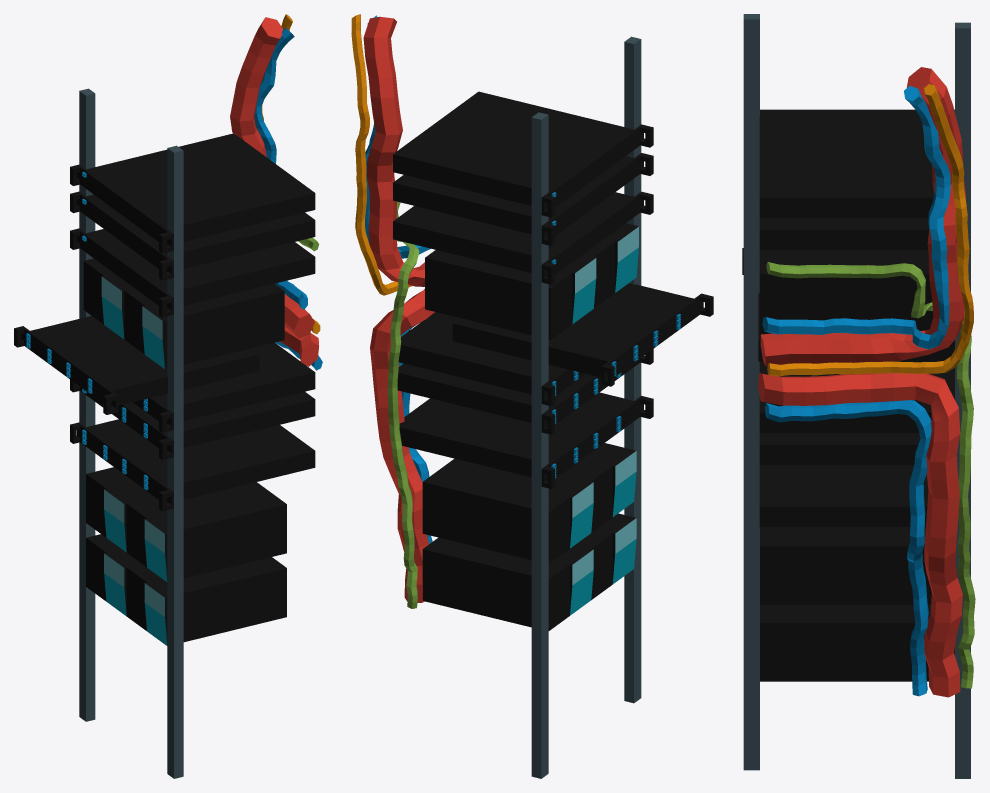
3 views of the same model, side by side, from view 1: azimuth 30°, elevation 25°; view 2: azimuth 150°, elevation 25°; view 3: azimuth 270°, elevation 25° (orthographic). The views are drawn at different scales.
Parts seen in each view (by area): view 1: node_MeshObject1979031040-PolyPaper23, node_MeshObject-657993344-PolyPaper9; view 2: node_MeshObject1979031040-PolyPaper23, node_MeshObject-657993344-PolyPaper9; view 3: node_MeshObject1979031040-PolyPaper23, node_MeshObject-657993344-PolyPaper9.
Boxes of the visible parts, left/top/right/bottom form: node_MeshObject1979031040-PolyPaper23: left=14, top=17, right=322, bottom=645; node_MeshObject-657993344-PolyPaper9: left=79, top=14, right=320, bottom=778; node_MeshObject1979031040-PolyPaper23: left=363, top=15, right=713, bottom=630; node_MeshObject-657993344-PolyPaper9: left=351, top=14, right=641, bottom=778; node_MeshObject1979031040-PolyPaper23: left=742, top=67, right=966, bottom=697; node_MeshObject-657993344-PolyPaper9: left=743, top=14, right=975, bottom=778.
Bounding box in the file's own units: 1.13 × 2.73 × 0.7177.
